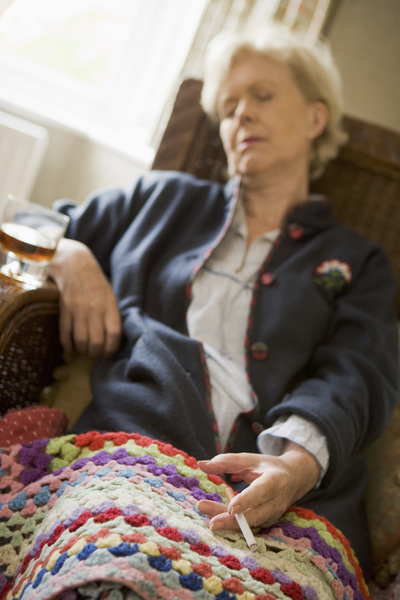alcohol: (0, 194, 71, 291)
cigarette: (223, 485, 260, 551)
